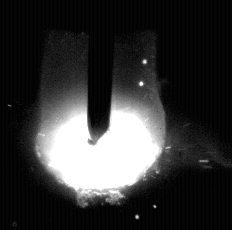arame: (88, 0, 112, 146)
poca: (34, 0, 163, 230)
